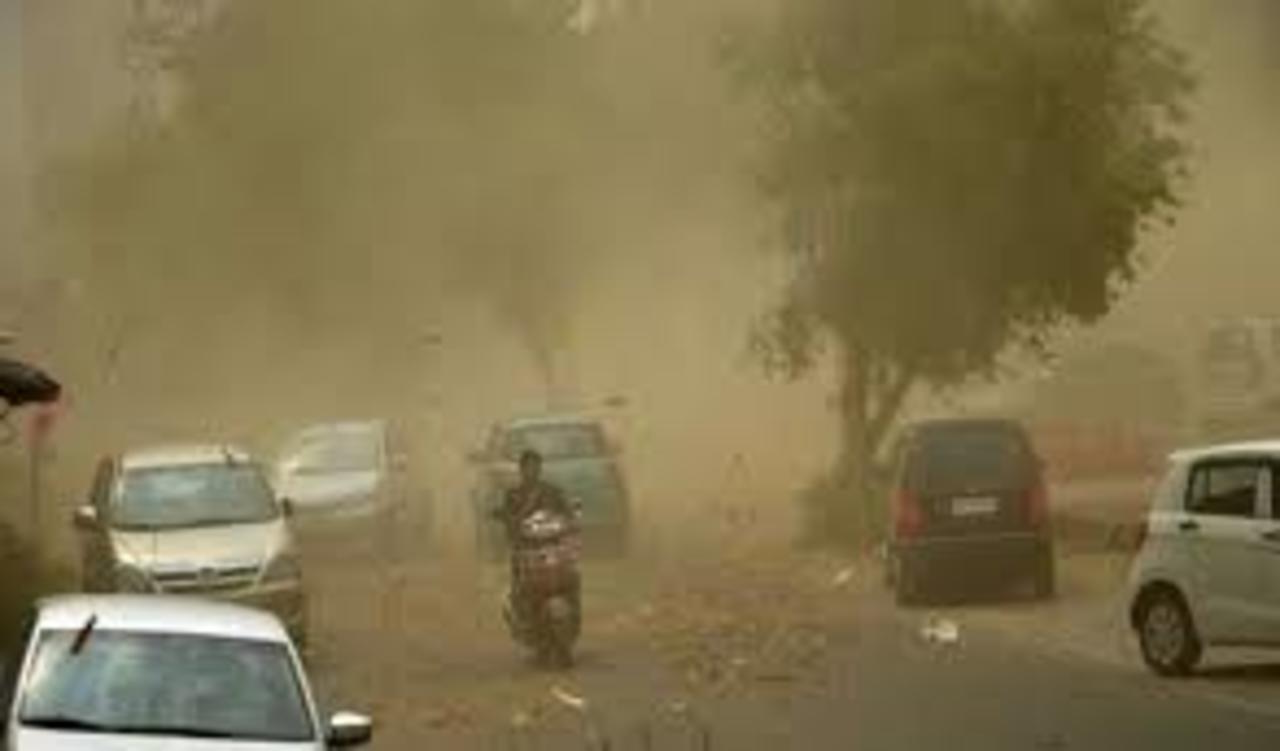car: (9, 589, 359, 750), (1117, 438, 1279, 682), (877, 416, 1049, 607), (88, 442, 282, 594), (466, 420, 628, 551), (274, 422, 406, 542), (1003, 337, 1188, 416), (1208, 311, 1278, 425)
motorcycle: (484, 502, 593, 664)
person: (479, 446, 590, 637)
